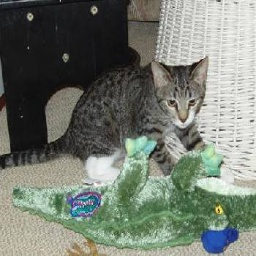cat: (18, 54, 215, 178)
